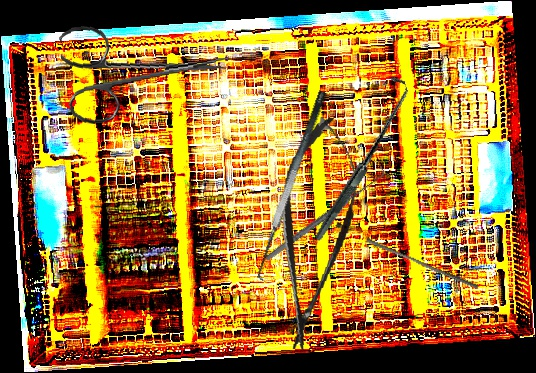Hook Surgical: (275, 73, 445, 242), (260, 165, 389, 263)
Iris Scissors: (58, 11, 232, 127)
Micro Scissor: (262, 112, 368, 356)
Pusher: (364, 237, 481, 290)
Spatula Surgical: (246, 89, 344, 285)
